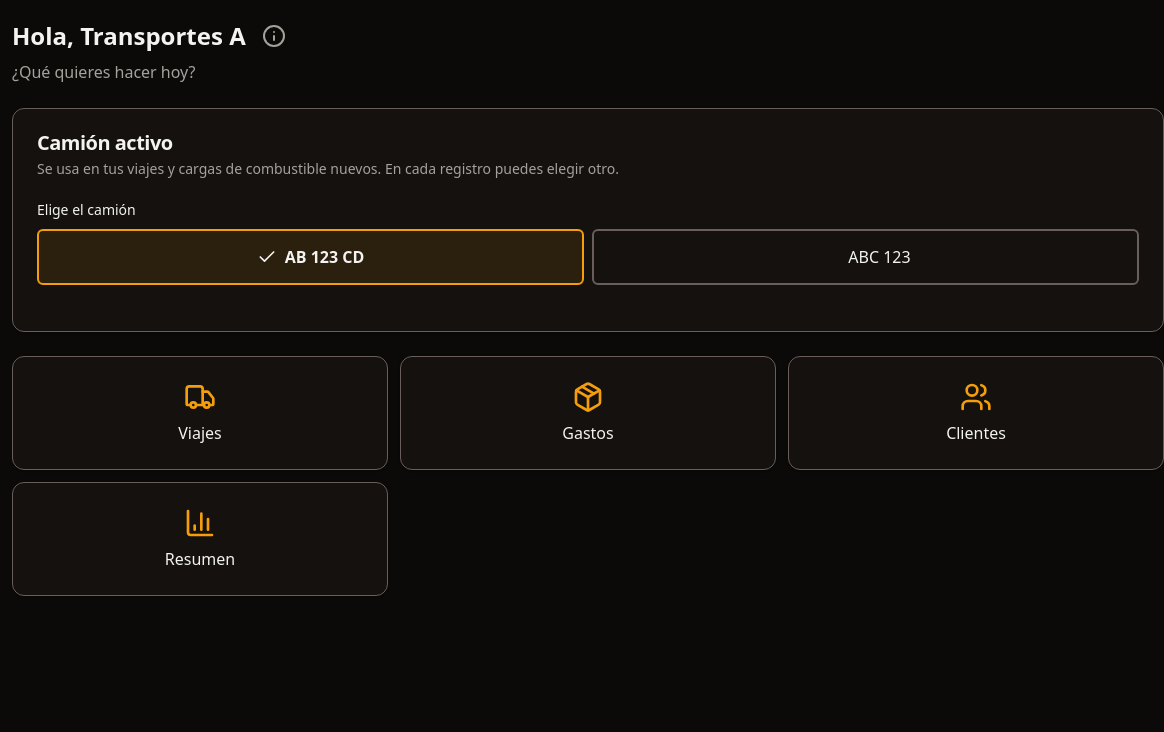
it: tarjeta del camión activo: elegir › 23503 (el camión ya no existe): "El camión elegido ya no existe. Elige otro." sin "Reintentar"
What coordinates should you click on to do the following:
click the radio button labelled "ABC 123"
I would click on:
 (866, 257)
Its box is left=592, top=229, right=1139, bottom=285.
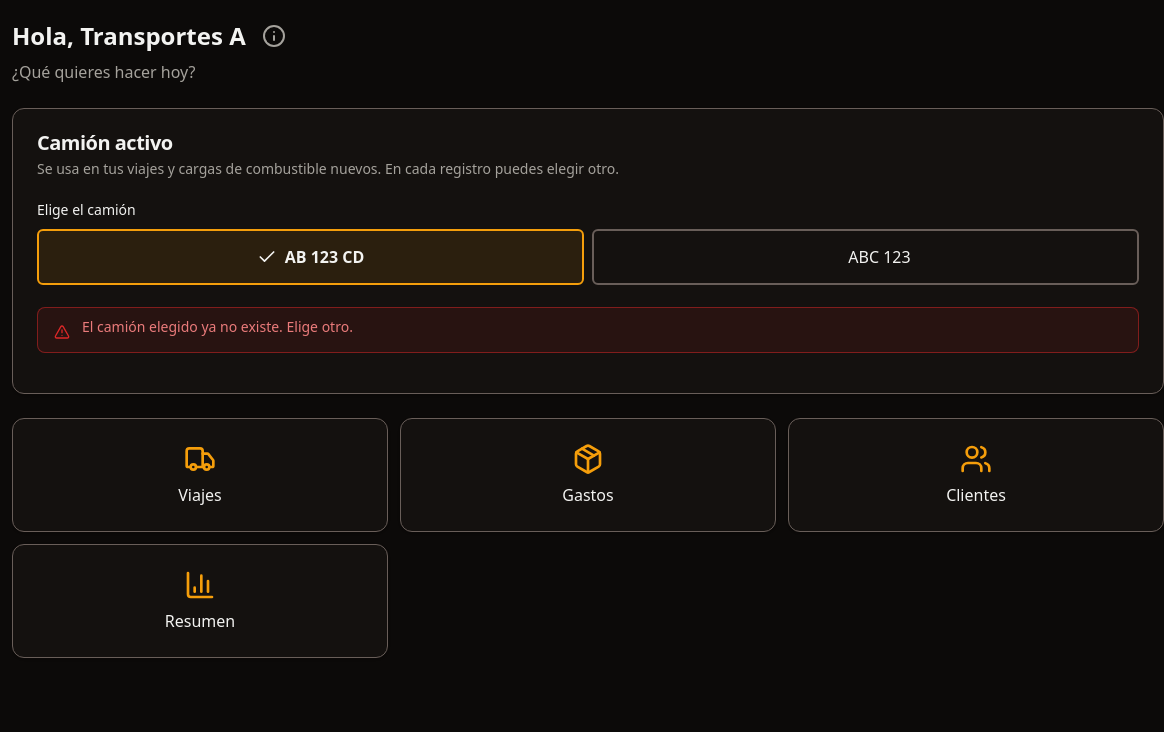
Expected: the text "AB 123 CD" is shown, left=285, top=247, right=364, bottom=267
Expected: the message "El camión elegido ya no existe. Elige otro." is shown, left=37, top=307, right=1139, bottom=353
